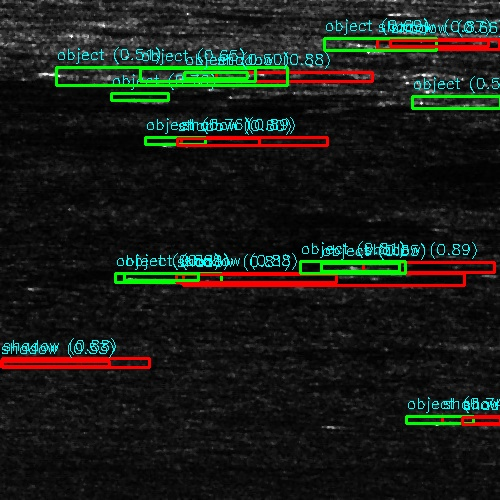rock: (149, 66, 264, 85), (306, 262, 399, 273), (133, 274, 226, 283), (154, 137, 227, 144), (121, 94, 184, 101), (354, 247, 417, 252), (413, 416, 476, 421), (93, 29, 146, 34)
shadow: (207, 66, 377, 85), (180, 274, 457, 283), (0, 361, 214, 370), (353, 262, 448, 273), (191, 137, 276, 144), (153, 94, 236, 101), (386, 247, 481, 252), (120, 29, 203, 34), (445, 416, 500, 421)
